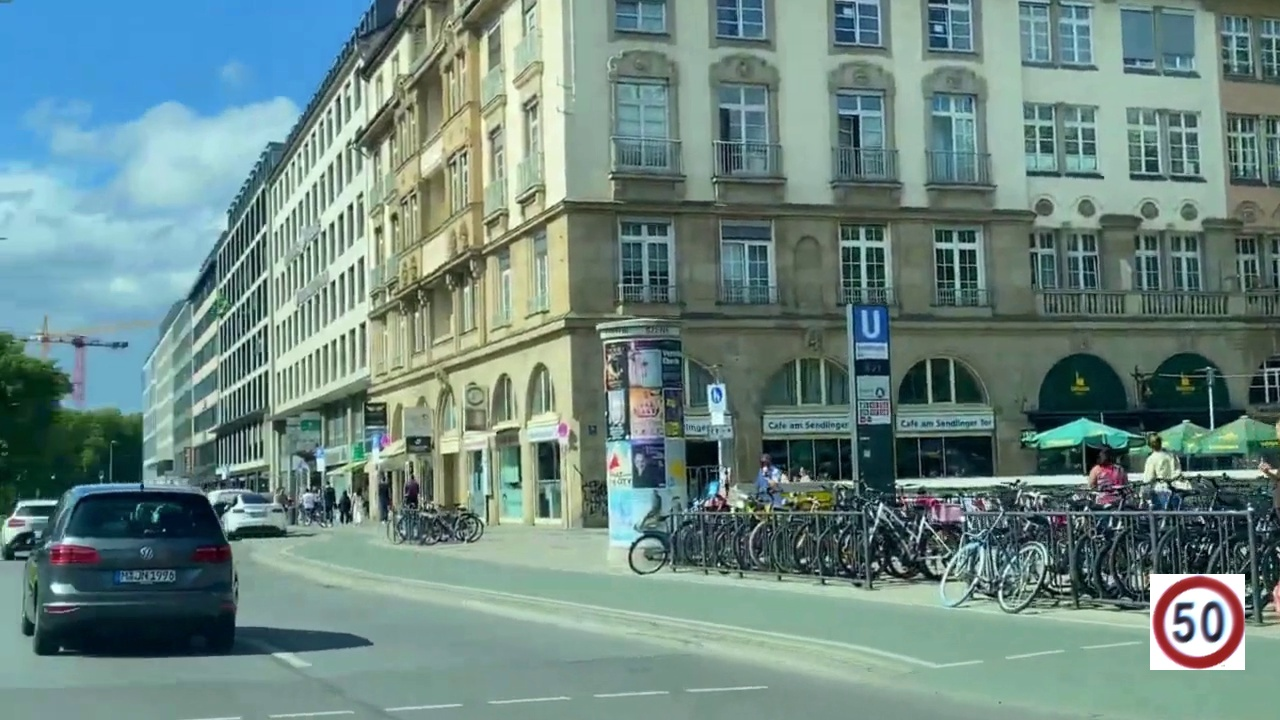Speed 50: (1150, 574, 1245, 670)
